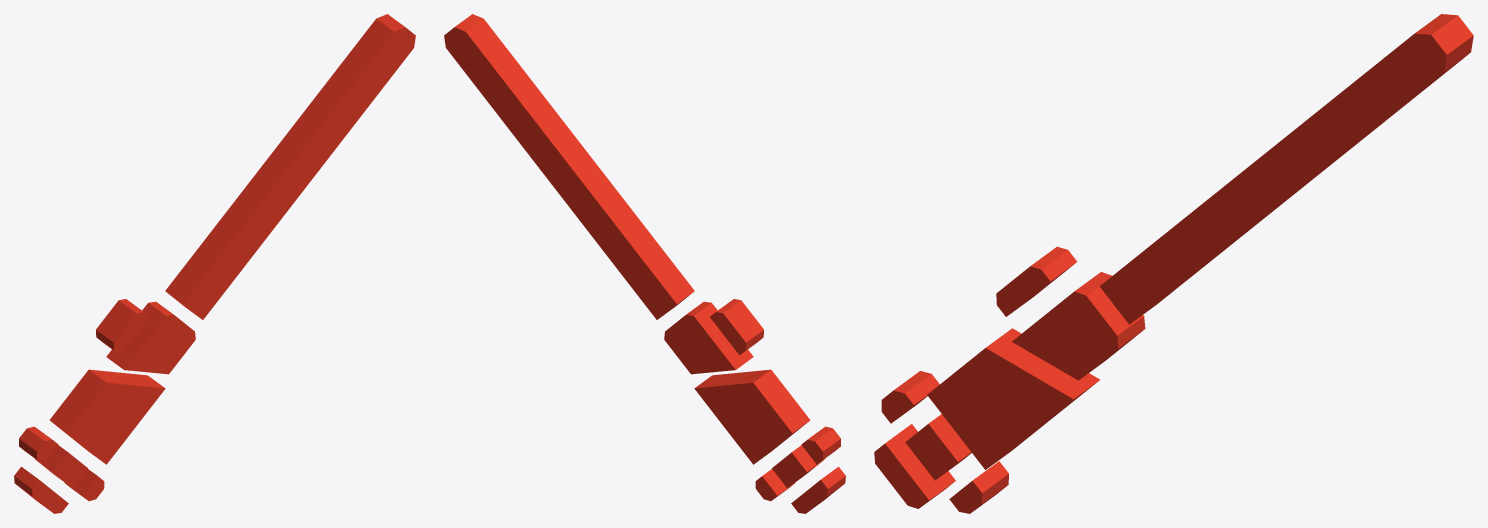
Rendered from Icon_Lightsaber_01.fbx.
3 renders of one model, left to right at view 1: azimuth 30°, elevation 25°; view 2: azimuth 150°, elevation 25°; view 3: azimuth 330°, elevation 25°, orthographic. The views are drawn at different scales.
Parts seen in each view (by area): view 1: Icon_Lightsaber_01; view 2: Icon_Lightsaber_01; view 3: Icon_Lightsaber_01.
Part boxes in pixels (x1,y1,x2,y2): Icon_Lightsaber_01: (14, 14, 415, 513); Icon_Lightsaber_01: (444, 14, 845, 513); Icon_Lightsaber_01: (874, 14, 1473, 513).
Size of the model in its own units: 79.14 by 79.14 by 6.42.
